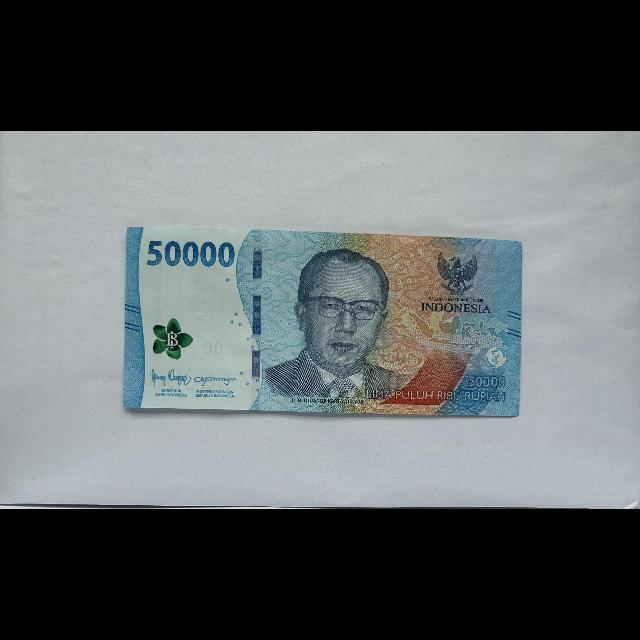Asli-50k: (122, 225, 524, 418)
Tinta-Asli-50k: (152, 317, 194, 360)
